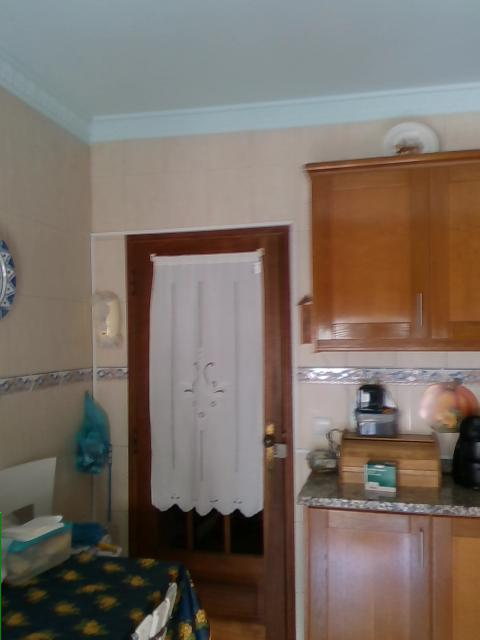door: (124, 224, 296, 636)
